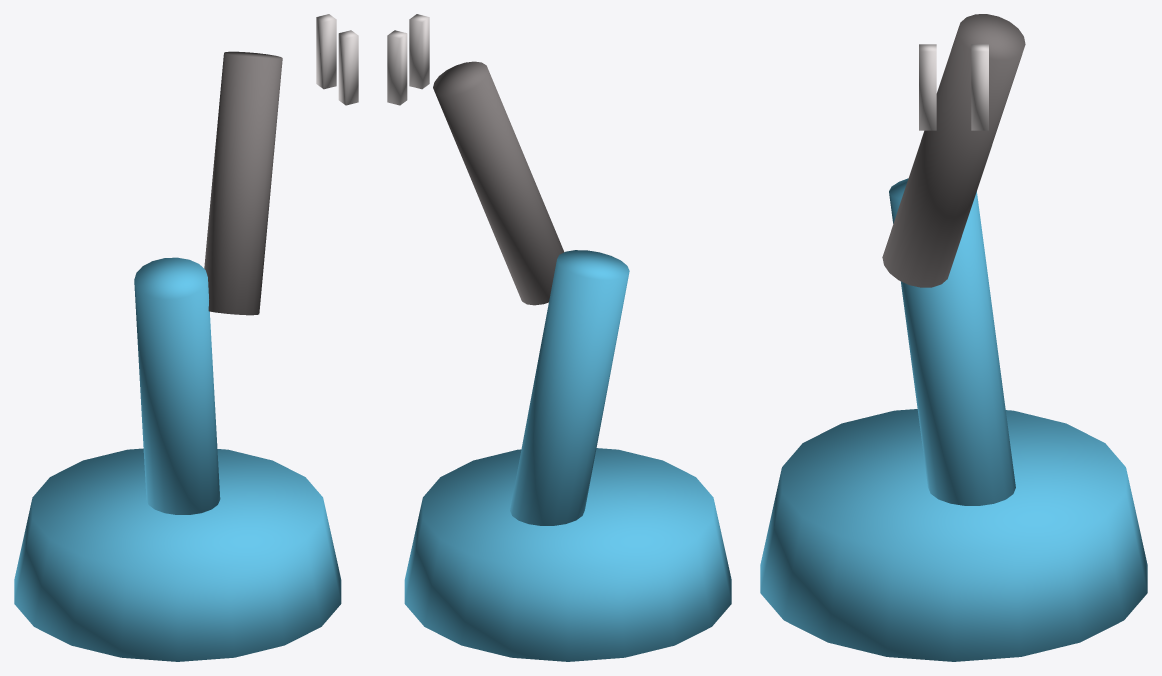
Rendered from robotic_arm.glb.
The picture shows the model from 3 angles, left to right: view 1: azimuth 30°, elevation 25°; view 2: azimuth 150°, elevation 25°; view 3: azimuth 270°, elevation 25°; orthographic projection. The views are drawn at different scales.
Parts seen in each view (by area): view 1: base, link1, link2, jaw_r, jaw_l; view 2: base, link1, link2, jaw_l, jaw_r; view 3: base, link1, link2, jaw_l, jaw_r.
Boxes of the visible parts, box(x1,y1,x2,y2) form: base: box(14, 448, 341, 661); link1: box(134, 257, 220, 514); link2: box(204, 51, 282, 315); jaw_r: box(338, 30, 358, 105); jaw_l: box(316, 14, 336, 89); base: box(404, 448, 731, 661); link1: box(510, 250, 629, 525); link2: box(433, 61, 563, 305); jaw_l: box(387, 30, 407, 105); jaw_r: box(409, 14, 429, 89); base: box(760, 409, 1147, 661); link1: box(889, 178, 1015, 505); link2: box(882, 14, 1025, 287); jaw_l: box(971, 44, 988, 130); jaw_r: box(919, 44, 936, 130).
Bounding box in the file's own units: 0.97 × 1.58 × 0.8863.
